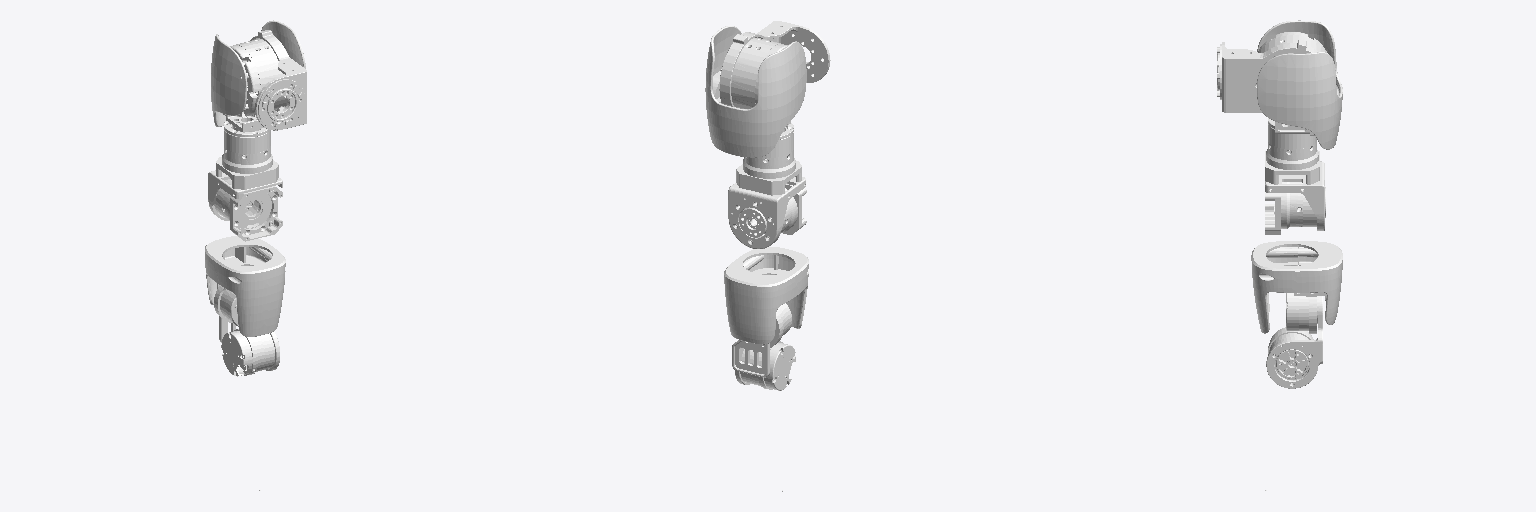
The robot description file, URDF, robot "biped_s40":
<?xml version="1.0" encoding="utf-8" ?>
<!-- This URDF was automatically created by SolidWorks to URDF Exporter! Originally created by [author] ([email redacted]) 
     Commit Version: 1.6.0-4-g7f85cfe  Build Version: 1.6.7995.38578
     For more information, please see http://wiki.ros.org/sw_urdf_exporter -->
<robot name="biped_s40">

    <link name="torso">
      <inertial>
          <origin xyz="0 0 0" rpy="0 0 0" />
          <mass value="0" />
          <inertia ixx="0" ixy="0" ixz="0" iyy="0" iyz="0" izz="0" />
      </inertial>
    </link>
    <joint name="torso" type="fixed">
      <parent link="torso" />
      <child link="base_link" />
      <origin xyz="0 0 0" rpy="0 0 0" />
    </joint>

    <link name="base_link">
        <inertial>
            <origin xyz="-0.0131642143292668 -0.00101855461920045 0.120968817067497" rpy="0 0 0" />
            <mass value="17.7538790248349" />
            <inertia ixx="0.109513413578877" ixy="-3.84263402967609E-06" ixz="0.002072229236261" iyy="0.0639718644540955" iyz="5.94596039793819E-06" izz="0.0796086142464887" />
        </inertial>
        <visual>
            <origin xyz="0 0 0" rpy="0 0 0" />
            <geometry>
                <mesh filename="package://biped_s40/meshes/torso.obj" />
            </geometry>
            <material name="">
                <color rgba="1 1 1 1" />
            </material>
        </visual>
        <collision>
            <origin xyz="0 0 0" rpy="0 0 0" />
            <geometry>
                <mesh filename="package://biped_s40/meshes/torso.obj" />
            </geometry>
        </collision>
    </link>

    <!-- 左手--> 
    <link name="zarm_l1_link">
        <inertial>
            <origin xyz="0.0146835191418715 -0.0166604103758634 -6.82857133369463E-05" rpy="0 0 0" />
            <mass value="0.165847319965906" />
            <inertia ixx="0.0002674432873971" ixy="-2.5654089149164E-05" ixz="-1.72966133127557E-07" iyy="0.000125796784291983" iyz="-1.66717296343014E-06" izz="0.000196186976742156" />
        </inertial>
        <visual>
            <origin xyz="0 0 0" rpy="0 0 0" />
            <geometry>
                <mesh filename="package://biped_s40/meshes/l_arm_pitch.obj" />
            </geometry>
            <material name="">
                <color rgba="1 1 1 1" />
            </material>
        </visual>
        <collision>
            <origin xyz="0 0 0" rpy="0 0 0" />
            <geometry>
                <mesh filename="package://biped_s40/meshes/l_arm_pitch.obj" />
            </geometry>
        </collision>
    </link>
    <joint name="zarm_l1_joint" type="revolute">
        <origin xyz="-0.0175475823124921 0.254700000000031 0.324500000000024" rpy="0 0 0" />
        <parent link="base_link" />
        <child link="zarm_l1_link" />
        <axis xyz="0 1 0" />
        <limit velocity="1" effort="20" lower="-3.14159"  upper="0.523599" /> 
    </joint>

    <link name="zarm_l2_link">
        <inertial>
            <origin xyz="0.0222872651779294 0.0156945544195443 -0.0202262244341467" rpy="0 0 0" />
            <mass value="0.14142658141305" />
            <inertia ixx="0.000160370067223078" ixy="6.30811840859276E-06" ixz="-1.13259246453472E-05" iyy="0.000262365778589952" iyz="3.14941259087025E-05" izz="0.000236014036281963" />
        </inertial>
        <visual>
            <origin xyz="0 0 0" rpy="0 0 0" />
            <geometry>
                <mesh filename="package://biped_s40/meshes/l_arm_roll.obj" />
            </geometry>
            <material name="">
                <color rgba="1 1 1 1" />
            </material>
        </visual>
        <collision>
            <origin xyz="0 0 0" rpy="0 0 0" />
            <geometry>
                <mesh filename="package://biped_s40/meshes/l_arm_roll.obj" />
            </geometry>
        </collision>
    </link>
    <joint name="zarm_l2_joint" type="revolute">
        <origin xyz="0 0 0" rpy="0 0 0" />
        <parent link="zarm_l1_link" />
        <child link="zarm_l2_link" />
        <axis xyz="1 0 0" />
        <limit velocity="1" effort="20" lower="-0.349066" upper="2.0944" /> 
    </joint>

    <link name="zarm_l3_link">
        <inertial>
            <origin xyz="6.16940440653045E-05 0.00525815062787316 -0.12882194485465" rpy="0 0 0" />
            <mass value="0.147794102819133" />
            <inertia ixx="7.00575957554695E-05" ixy="-6.81658230071221E-10" ixz="2.6942707856767E-10" iyy="8.53612265336774E-05" iyz="6.95899873075697E-06" izz="8.82223899453282E-05" />
        </inertial>
        <visual>
            <origin xyz="0 0 0" rpy="0 0 0" />
            <geometry>
                <mesh filename="package://biped_s40/meshes/l_arm_yaw.obj" />
            </geometry>
            <material name="">
                <color rgba="1 1 1 1" />
            </material>
        </visual>
        <collision>
            <origin xyz="0 0 0" rpy="0 0 0" />
            <geometry>
                <mesh filename="package://biped_s40/meshes/l_arm_yaw.obj" />
            </geometry>
        </collision>
    </link>
    <joint name="zarm_l3_joint" type="revolute">
        <origin xyz="0 0 0" rpy="0 0 0" />
        <parent link="zarm_l2_link" />
        <child link="zarm_l3_link" />
        <axis xyz="0 0 1" />
        <limit velocity="1" effort="20" lower="-1.5708" upper="1.5708" />
    </joint>

    <link name="zarm_l4_link">
        <inertial>
            <origin xyz="-1.42819297162602E-05 0.00938313949963104 -0.0522687552263907" rpy="0 0 0" />
            <mass value="0.170164726102014" />
            <inertia ixx="9.55808447606964E-05" ixy="-4.53863489155473E-08" ixz="5.39342118114986E-08" iyy="0.000126326373178401" iyz="-9.58160032696802E-06" izz="0.000121032474884244" />
        </inertial>
        <visual>
            <origin xyz="0 0 0" rpy="0 0 0" />
            <geometry>
                <mesh filename="package://biped_s40/meshes/l_forearm_pitch.obj" />
            </geometry>
            <material name="">
                <color rgba="1 1 1 1" />
            </material>
        </visual>
        <collision>
            <origin xyz="0 0 0" rpy="0 0 0" />
            <geometry>
                <mesh filename="package://biped_s40/meshes/l_forearm_pitch.obj" />
            </geometry>
        </collision>
    </link>
    <joint name="zarm_l4_joint" type="revolute">
        <origin xyz="0 0 -0.163599999999996" rpy="0 0 0" />
        <parent link="zarm_l3_link" />
        <child link="zarm_l4_link" />
        <axis xyz="0 1 0" />
        <limit velocity="1" effort="20" lower="-1.5708" upper="0" /> 
    </joint>

    <link name="zarm_l5_link">
        <inertial>
            <origin xyz="0.000113131262875685 0.00969728110559553 0.0227960708688583" rpy="0 0 0" />
            <mass value="0.157336277379834" />
            <inertia ixx="7.64923971357921E-05" ixy="8.51207618055666E-09" ixz="-1.40676645868301E-08" iyy="0.000122231121933325" iyz="1.11226992393513E-06" izz="8.44934959384744E-05" />
        </inertial>
        <visual>
            <origin xyz="0 0 0" rpy="0 0 0" />
            <geometry>
                <mesh filename="package://biped_s40/meshes/l_hand_yaw.obj" />
            </geometry>
            <material name="">
                <color rgba="1 1 1 1" />
            </material>
        </visual>
        <collision>
            <origin xyz="0 0 0" rpy="0 0 0" />
            <geometry>
                <mesh filename="package://biped_s40/meshes/l_hand_yaw.obj" />
            </geometry>
        </collision>
    </link>
    <joint name="zarm_l5_joint" type="revolute">
        <origin xyz="0 0 -0.132050000118071" rpy="0 0 0" />
        <parent link="zarm_l4_link" />
        <child link="zarm_l5_link" />
        <limit velocity="1" effort="20" lower="-1.5708" upper="1.5708" />
        <axis xyz="0 0 1" />
    </joint>

    <link name="zarm_l6_link">
        <inertial>
            <origin xyz="0.00810609772930763 0.00490163171050539 -0.0527751110917489" rpy="0 0 0" />
            <mass value="0.0853891779246004" />
            <inertia ixx="4.77321490368476E-05" ixy="3.05261917457108E-06" ixz="4.77827164947653E-06" iyy="3.43814769749137E-05" iyz="-4.59311499587152E-06" izz="2.49955336560133E-05" />
        </inertial>
        <visual>
            <origin xyz="0 0 0" rpy="0 0 0" />
            <geometry>
                <mesh filename="package://biped_s40/meshes/l_hand_pitch.obj" />
            </geometry>
            <material name="">
                <color rgba="1 1 1 1" />
            </material>
        </visual>
        <collision>
            <origin xyz="0 0 0" rpy="0 0 0" />
            <geometry>
                <mesh filename="package://biped_s40/meshes/l_hand_pitch.obj" />
            </geometry>
        </collision>
    </link>
    <joint name="zarm_l6_joint" type="revolute">
        <origin xyz="0 0 0" rpy="0 0 0" />
        <parent link="zarm_l5_link" />
        <child link="zarm_l6_link" />
        <axis xyz="0 1 0" />
        <limit velocity="1" effort="20" lower="-1.5708" upper="1.5708" /> 
    </joint>

    <link name="zarm_l7_link">
        <inertial>
            <origin xyz="0.00396050555698803 0.00946265387749012 -0.066602176591173" rpy="0 0 0" />
            <mass value="0.151352919071109" />
            <inertia ixx="9.13246737942629E-05" ixy="3.25649345932988E-07" ixz="-4.78728976781085E-06" iyy="0.000139866613946359" iyz="1.1925397914412E-05" izz="0.000125082116428502" />
        </inertial>
        <visual>
            <origin xyz="0 0 0" rpy="0 0 0" />
            <geometry>
                <mesh filename="package://biped_s40/meshes/new_l_hand_roll.obj" />
            </geometry>
            <material name="">
                <color rgba="1 1 1 1" />
            </material>
        </visual>
        <collision>
            <origin xyz="0 0 0" rpy="0 0 0" />
            <geometry>
                <mesh filename="package://biped_s40/meshes/new_l_hand_roll.obj" />
            </geometry>
        </collision>
    </link>
    <joint name="zarm_l7_joint" type="revolute">
        <origin xyz="0 0 -0.058999997180792" rpy="0 0 0" />
        <parent link="zarm_l6_link" />
        <child link="zarm_l7_link" />
        <axis xyz="1 0 0" />
        <limit velocity="1" effort="20" lower="-1.5708" upper="1.5708" />
    </joint>

    <link name="zarm_l7_end_effector">
        <visual>
            <origin xyz="0 0 0" rpy="0 0 0" />
            <geometry>
                <sphere radius="0.001"/>
            </geometry>
            <material name="">
                <color rgba="1 1 1 1" />
            </material>
        </visual>
    </link>
    <joint name="zarm_l7_joint_end_effector" type="fixed">
        <origin xyz="0.00 -0.03 -0.17" rpy="0 0 0" />
        <parent link="zarm_l7_link" />
        <child link="zarm_l7_end_effector" />
    </joint>
</robot>

--- Render facts (derived) ---
The picture shows the robot from 3 angles, left to right: view 1: azimuth 30°, elevation 25°; view 2: azimuth 150°, elevation 25°; view 3: azimuth 270°, elevation 25°; orthographic projection.
Robot: biped_s40 — 10 links, 9 joints (7 revolute, 2 fixed); root link torso; default pose: all joints at 0.
Links seen in each view (by area): view 1: zarm_l5_link, zarm_l3_link, zarm_l1_link, zarm_l2_link, zarm_l6_link; view 2: zarm_l2_link, zarm_l5_link, zarm_l3_link, zarm_l1_link, zarm_l6_link; view 3: zarm_l2_link, zarm_l5_link, zarm_l3_link, zarm_l1_link, zarm_l6_link.
Boxes of the visible links, bbox=[...] form: zarm_l5_link: bbox=[205, 236, 285, 336]; zarm_l3_link: bbox=[208, 121, 282, 241]; zarm_l1_link: bbox=[230, 30, 306, 130]; zarm_l2_link: bbox=[211, 20, 305, 132]; zarm_l6_link: bbox=[219, 316, 279, 376]; zarm_l2_link: bbox=[705, 26, 806, 157]; zarm_l5_link: bbox=[724, 246, 808, 347]; zarm_l3_link: bbox=[728, 123, 806, 248]; zarm_l1_link: bbox=[719, 21, 830, 108]; zarm_l6_link: bbox=[732, 340, 795, 390]; zarm_l2_link: bbox=[1257, 20, 1342, 149]; zarm_l5_link: bbox=[1251, 241, 1342, 333]; zarm_l3_link: bbox=[1265, 118, 1325, 234]; zarm_l1_link: bbox=[1217, 32, 1326, 112]; zarm_l6_link: bbox=[1266, 296, 1322, 388].
Size in the robot's own frame: 0.1084 by 0.143 by 0.5772 metres.
Meshes: 8 distinct files referenced, 5 mesh visuals loaded (5 OBJ); not drawn: 3 (reference not matched to a file when rendering).
